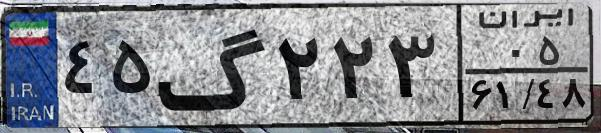0: (508, 27, 537, 80)
1: (495, 70, 520, 125)
2: (270, 28, 330, 110), (330, 28, 385, 110)
3: (385, 28, 445, 110)
4: (57, 26, 110, 100), (535, 70, 560, 125)
5: (110, 28, 156, 98), (537, 27, 568, 80)
6: (470, 70, 495, 125)
8: (560, 70, 590, 125)
گ: (156, 12, 270, 120)
